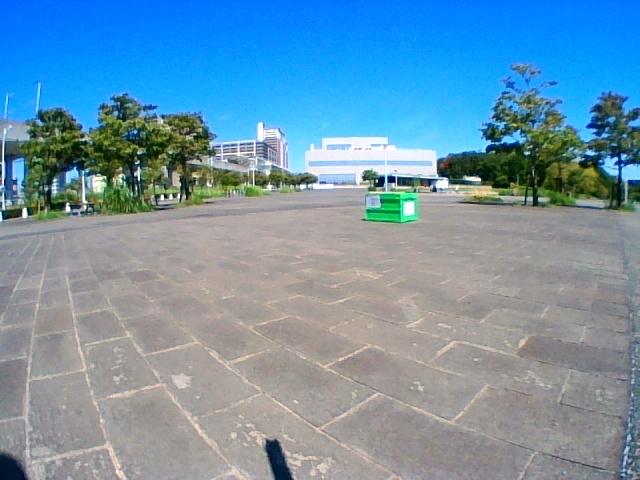green_box: (365, 193, 417, 221)
tag: (366, 197, 380, 207)
